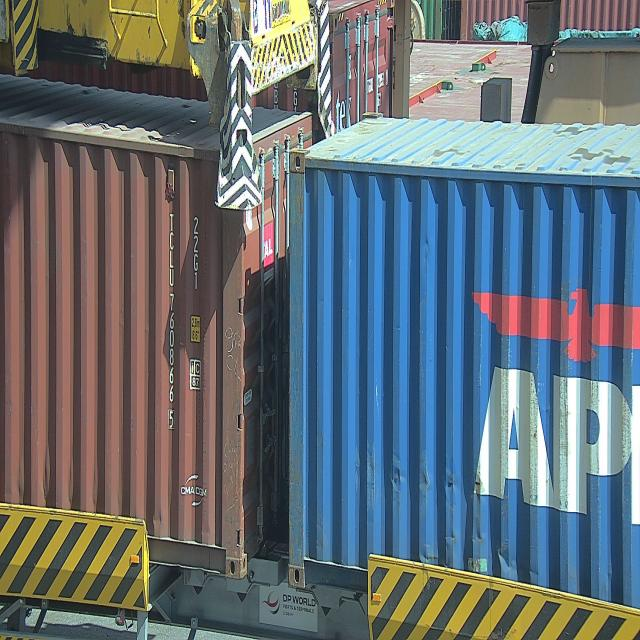dent: (374, 447, 544, 581)
